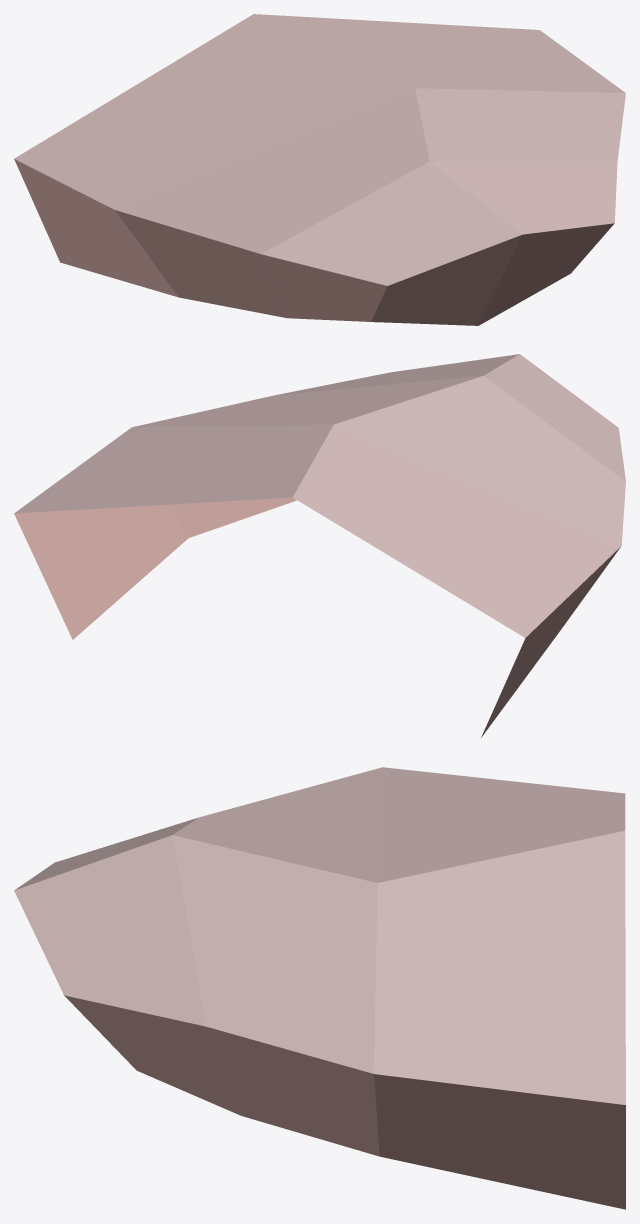
File: Choros.fbx
The picture shows the model from 3 angles, top to bottom: view 1: azimuth 30°, elevation 25°; view 2: azimuth 150°, elevation 25°; view 3: azimuth 270°, elevation 25°; orthographic projection. The views are drawn at different scales.
Parts seen in each view (by area): view 1: Choroš; view 2: Choroš; view 3: Choroš.
Part boxes in pixels (left/top/right/bottom): Choroš: left=14, top=14, right=625, bottom=325; Choroš: left=14, top=354, right=625, bottom=737; Choroš: left=14, top=767, right=625, bottom=1209.
Size of the model in its own units: 2.84 by 1.04 by 2.36.
